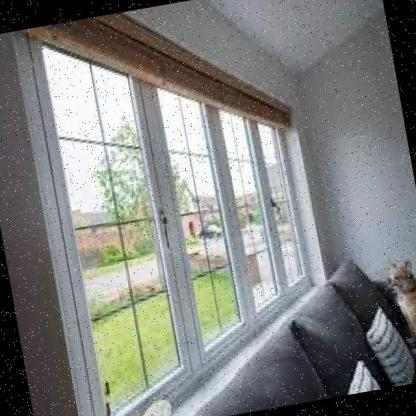Window: (29, 19, 196, 416), (149, 63, 251, 358), (217, 98, 287, 326)
